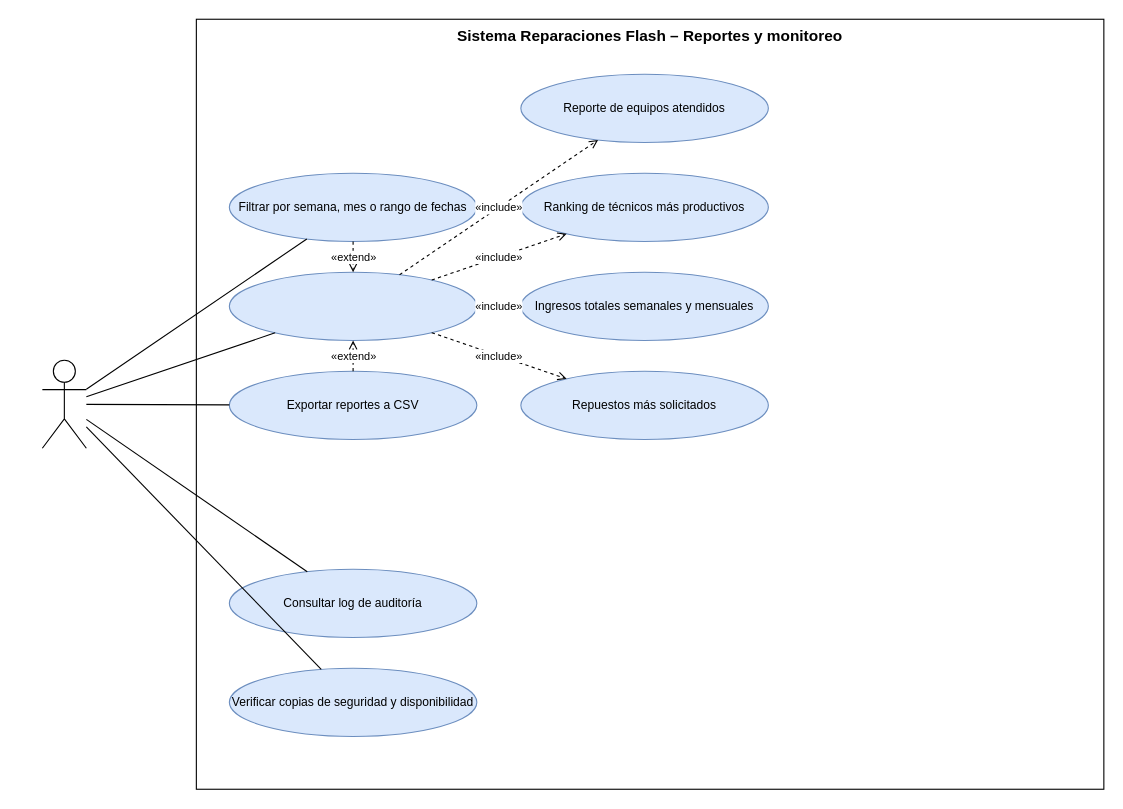
This 1123x809 diagram has some shape labels left out. The centre of each missing label's shape, as x and y in pixels:
Administrador: the point at 63,403
Ver panel de control: the point at 352,305
